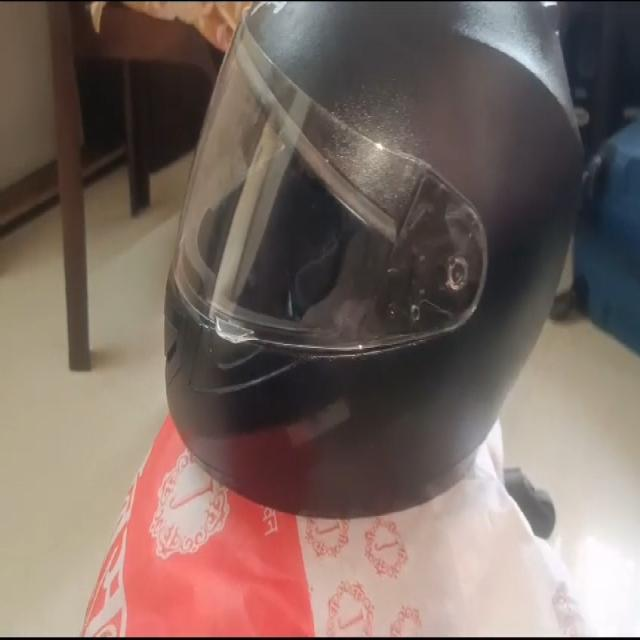Helmet: (160, 0, 598, 517)
